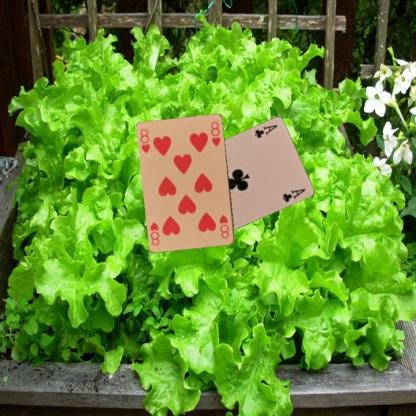8h: (216, 212, 231, 240), (138, 126, 152, 155)
Ac: (252, 122, 278, 140)
